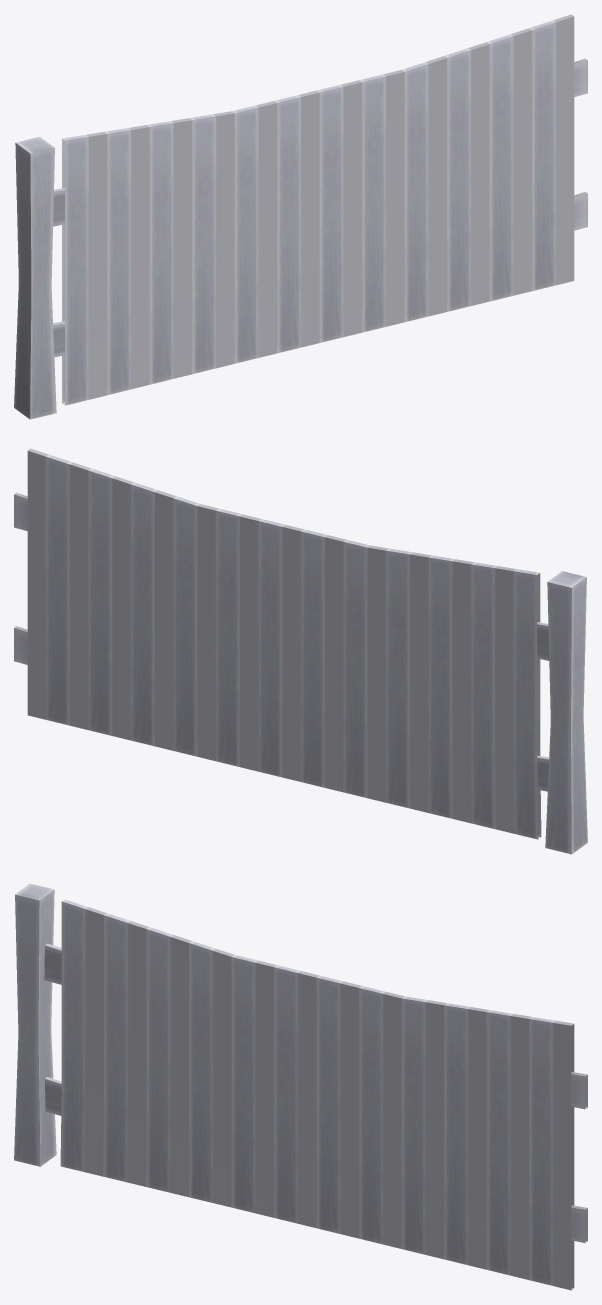
File: INST_HTOWN_FENCEWHT00DEG.fbx
3 renders of one model, top to bottom at view 1: azimuth 30°, elevation 25°; view 2: azimuth 150°, elevation 25°; view 3: azimuth 330°, elevation 25°, orthographic.
Parts seen in each view (by area): view 1: INST_HTOWN_FENCEWHT00DEG; view 2: INST_HTOWN_FENCEWHT00DEG; view 3: INST_HTOWN_FENCEWHT00DEG.
Boxes of the visible parts, <box> form: INST_HTOWN_FENCEWHT00DEG: <box>14,14,587,419</box>; INST_HTOWN_FENCEWHT00DEG: <box>14,448,587,854</box>; INST_HTOWN_FENCEWHT00DEG: <box>14,883,587,1290</box>.
Bounding box in the file's own units: 30448 × 13708 × 1509.
2 materials, 2 textured.
